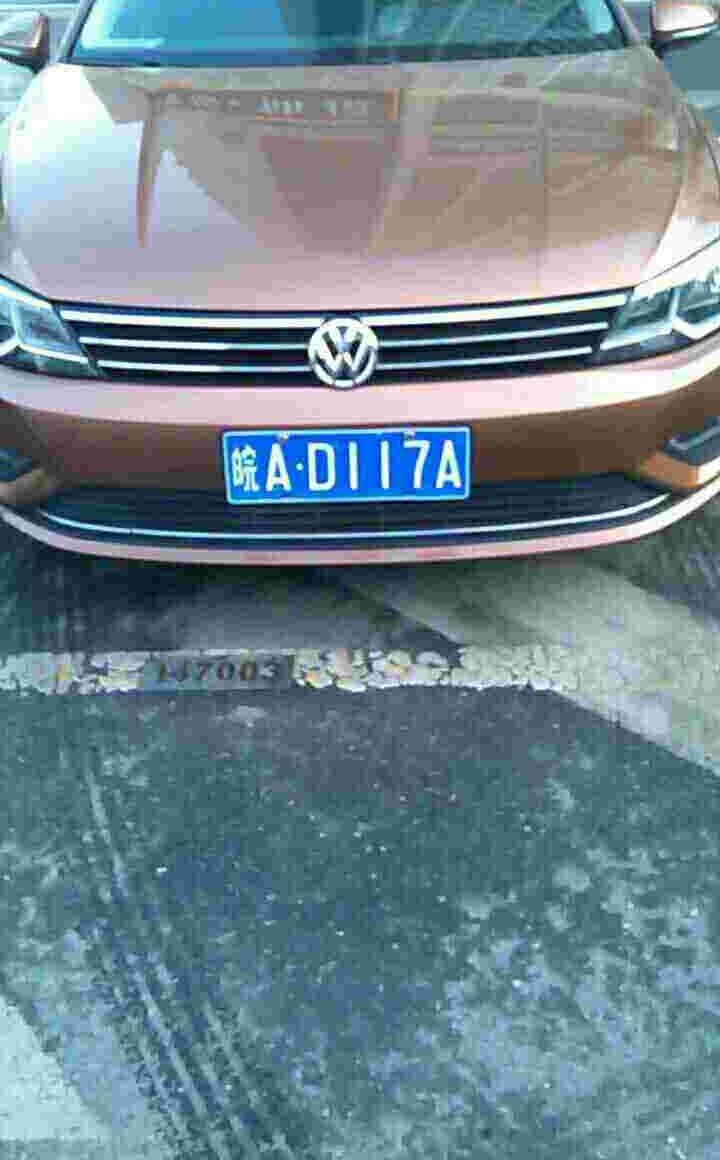plate: (227, 424, 475, 507)
